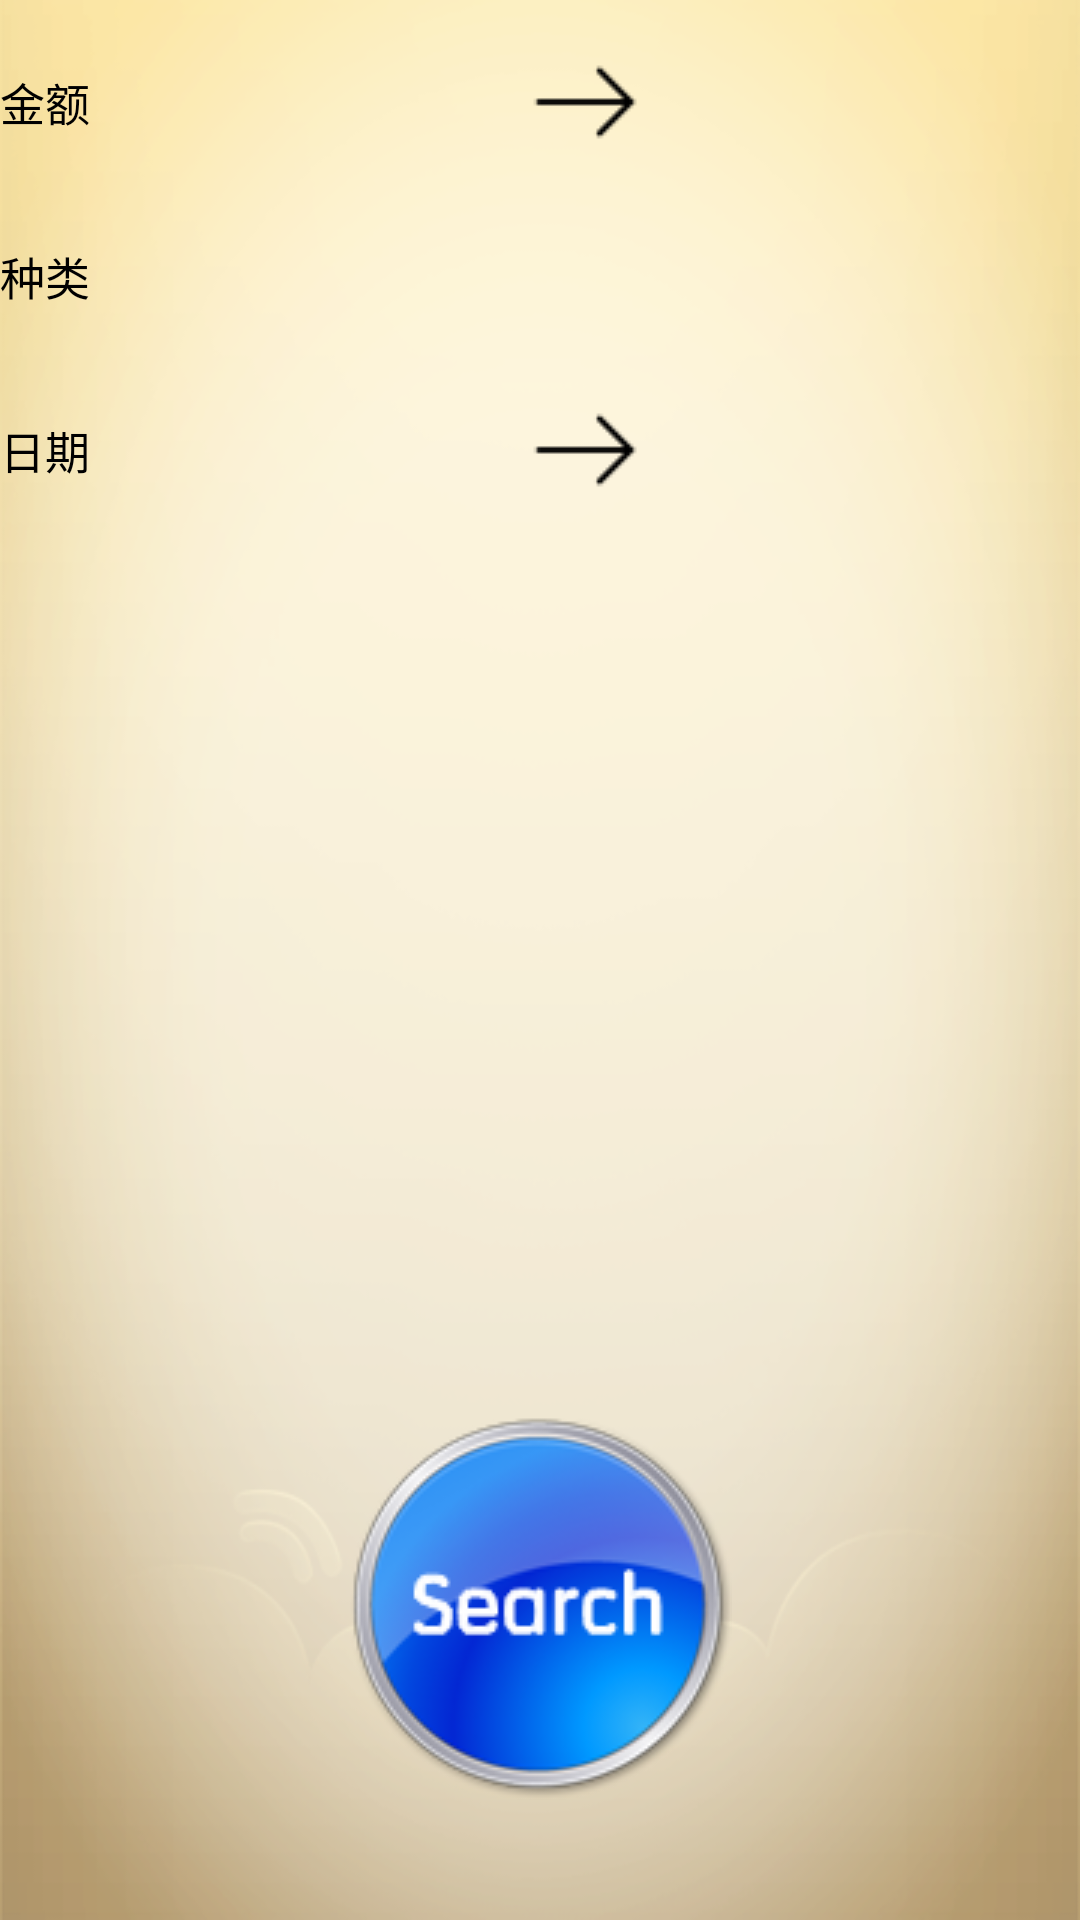

Screen size 1080*1920. Icon name, then its center in pixels as point (x, y):
arrow right: point (585, 102), point (585, 450)
